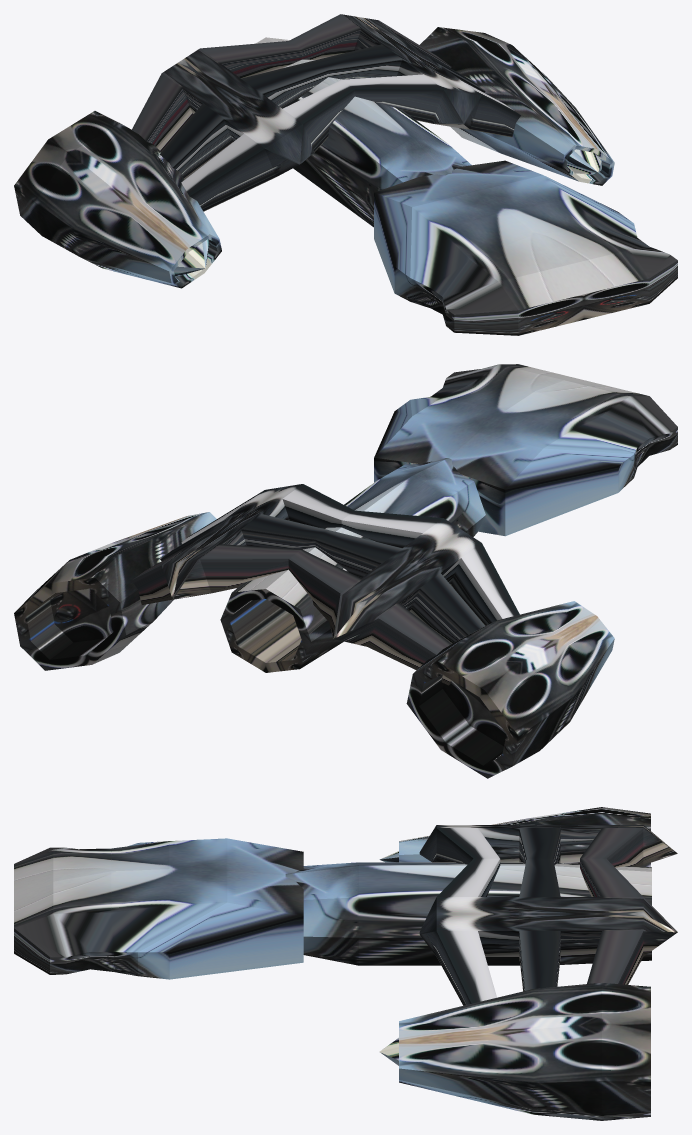
The model's file is m4-ship3.obj.
3 renders of one model, top to bottom at view 1: azimuth 30°, elevation 25°; view 2: azimuth 150°, elevation 25°; view 3: azimuth 270°, elevation 25°, orthographic.
Parts seen in each view (by area): view 1: M4_Ship_3_Cube.096; view 2: M4_Ship_3_Cube.096; view 3: M4_Ship_3_Cube.096.
Boxes of the visible parts, box(x1,y1,x2,y2) form: M4_Ship_3_Cube.096: box(14, 14, 677, 335); M4_Ship_3_Cube.096: box(14, 364, 677, 778); M4_Ship_3_Cube.096: box(14, 807, 677, 1120).
Size of the model in its own units: 40.33 by 11.59 by 45.16.
